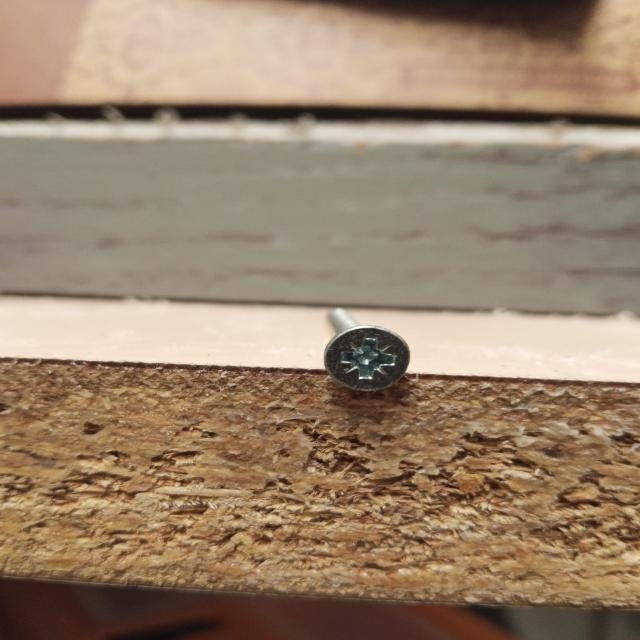pozidriv: (323, 324, 411, 392)
